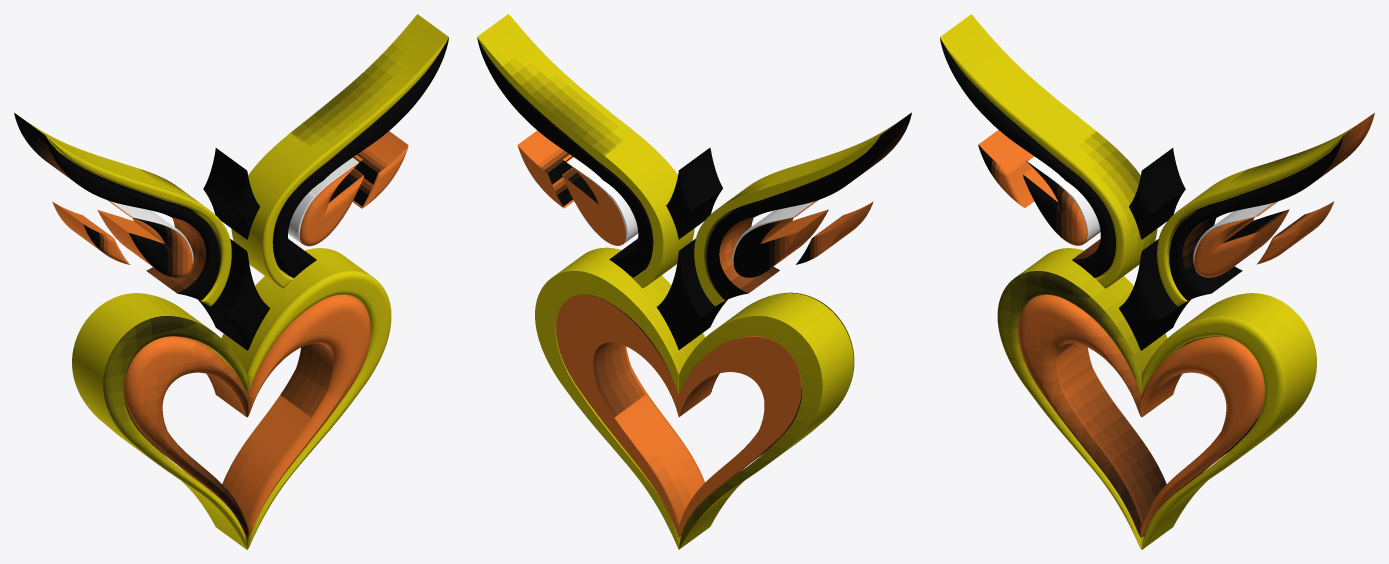
The model's file is eof.glb.
3 views of the same model, side by side, from view 1: azimuth 30°, elevation 25°; view 2: azimuth 150°, elevation 25°; view 3: azimuth 330°, elevation 25° (orthographic).
Parts seen in each view (by area): view 1: Mesh_65, Mesh_57, Mesh_60, Mesh_61, Mesh_64, Mesh_59, Mesh_58, Mesh_56, Mesh_42, Mesh_55, Mesh_47, Mesh_52 (+4 smaller); view 2: Mesh_65, Mesh_57, Mesh_60, Mesh_61, Mesh_64, Mesh_59, Mesh_58, Mesh_56, Mesh_42, Mesh_55, Mesh_47, Mesh_52 (+4 smaller); view 3: Mesh_64, Mesh_56, Mesh_61, Mesh_60, Mesh_65, Mesh_58, Mesh_59, Mesh_57, Mesh_42, Mesh_52, Mesh_47, Mesh_55 (+4 smaller).
Boxes of the visible parts, left/top/right/bottom form: Mesh_65: left=222, top=294, right=370, bottom=536; Mesh_57: left=231, top=14, right=448, bottom=288; Mesh_60: left=72, top=293, right=247, bottom=549; Mesh_61: left=221, top=248, right=391, bottom=549; Mesh_64: left=124, top=336, right=248, bottom=537; Mesh_59: left=14, top=112, right=219, bottom=300; Mesh_58: left=272, top=37, right=448, bottom=277; Mesh_56: left=21, top=117, right=231, bottom=306; Mesh_42: left=198, top=239, right=269, bottom=350; Mesh_55: left=97, top=200, right=192, bottom=278; Mesh_47: left=203, top=148, right=259, bottom=239; Mesh_52: left=299, top=157, right=363, bottom=246; Mesh_65: left=556, top=294, right=704, bottom=536; Mesh_57: left=477, top=14, right=694, bottom=288; Mesh_60: left=679, top=292, right=854, bottom=549; Mesh_61: left=535, top=247, right=704, bottom=549; Mesh_64: left=678, top=336, right=801, bottom=537; Mesh_59: left=706, top=112, right=911, bottom=300; Mesh_58: left=477, top=38, right=653, bottom=277; Mesh_56: left=694, top=116, right=906, bottom=306; Mesh_42: left=656, top=238, right=727, bottom=349; Mesh_55: left=733, top=200, right=828, bottom=277; Mesh_47: left=666, top=148, right=722, bottom=239; Mesh_52: left=562, top=157, right=625, bottom=245; Mesh_64: left=1018, top=294, right=1166, bottom=536; Mesh_56: left=940, top=14, right=1157, bottom=288; Mesh_61: left=1141, top=293, right=1316, bottom=549; Mesh_60: left=997, top=248, right=1167, bottom=549; Mesh_65: left=1140, top=336, right=1264, bottom=537; Mesh_58: left=1169, top=112, right=1374, bottom=300; Mesh_59: left=940, top=37, right=1116, bottom=277; Mesh_57: left=1157, top=117, right=1367, bottom=306; Mesh_42: left=1119, top=239, right=1190, bottom=350; Mesh_52: left=1194, top=202, right=1289, bottom=277; Mesh_47: left=1129, top=148, right=1185, bottom=239; Mesh_55: left=1023, top=155, right=1100, bottom=245.
Size of what is drawn, in the model's own units: 3.58 by 3.94 by 0.5724.
Materials: 47 (31 with a texture image).
